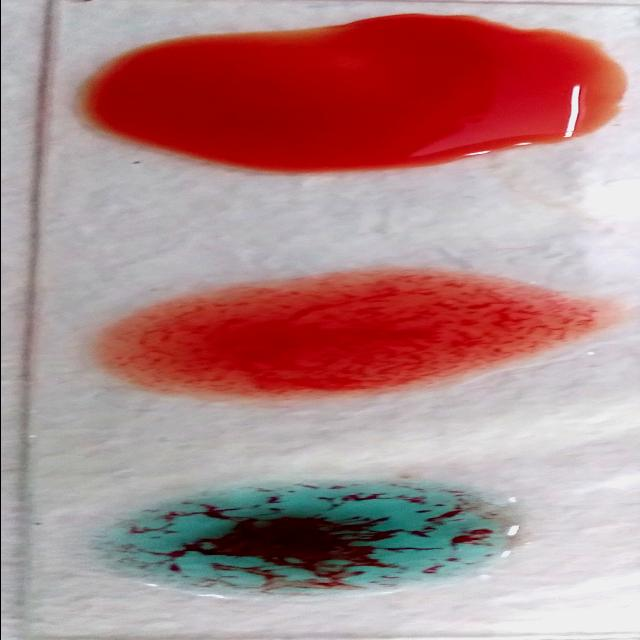A: (89, 484, 531, 600)
D: (93, 276, 592, 398)
